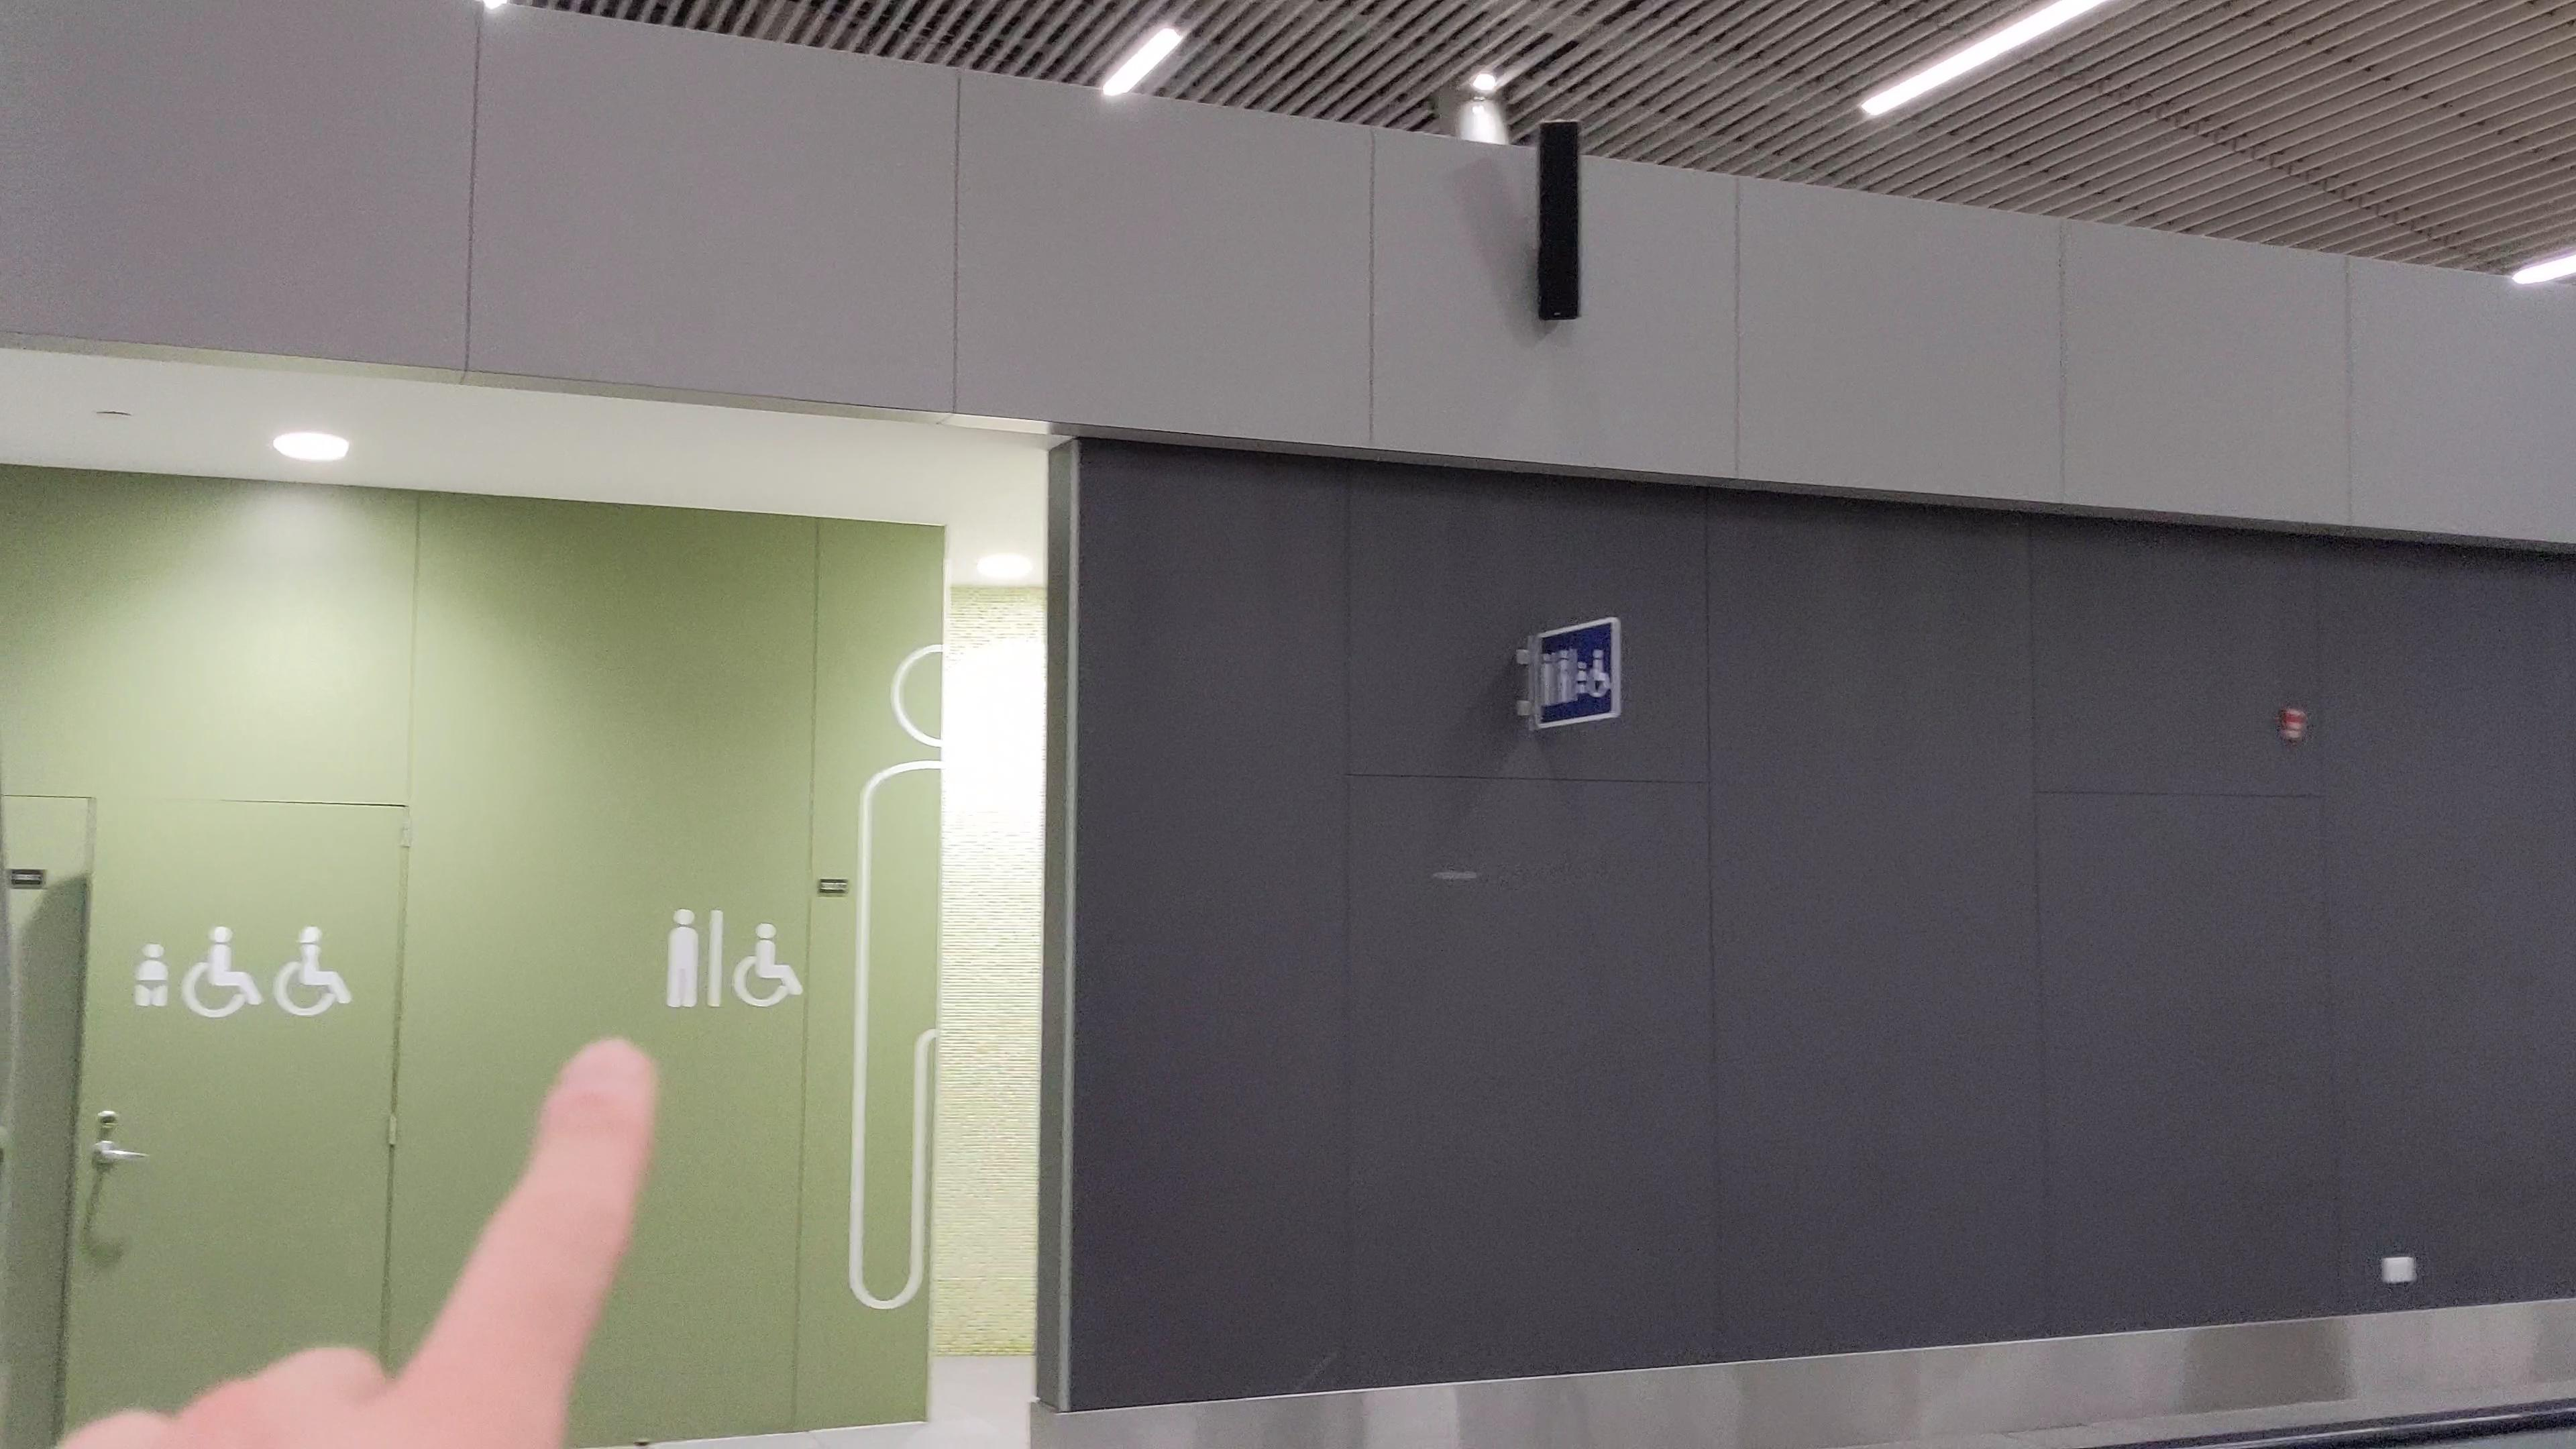bathrooms: (1539, 646, 1578, 706)
handicapped symbol: (179, 920, 267, 1026), (272, 924, 356, 1021), (729, 920, 807, 1012), (1587, 648, 1612, 699)
